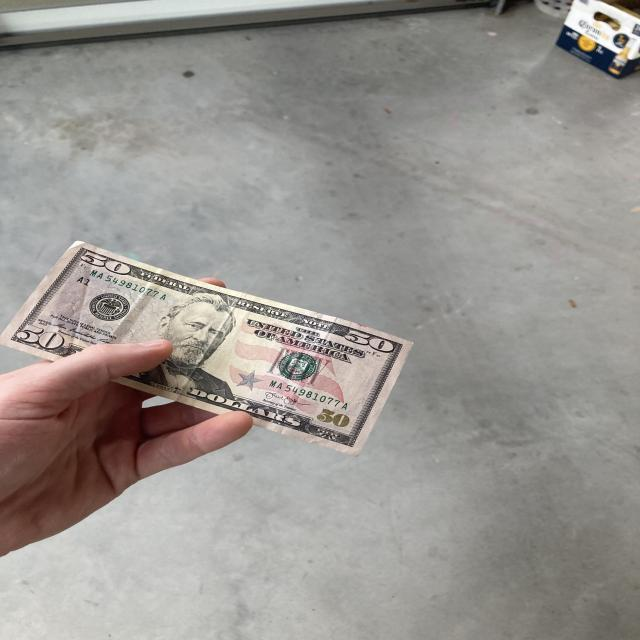fifty: (0, 240, 415, 459)
